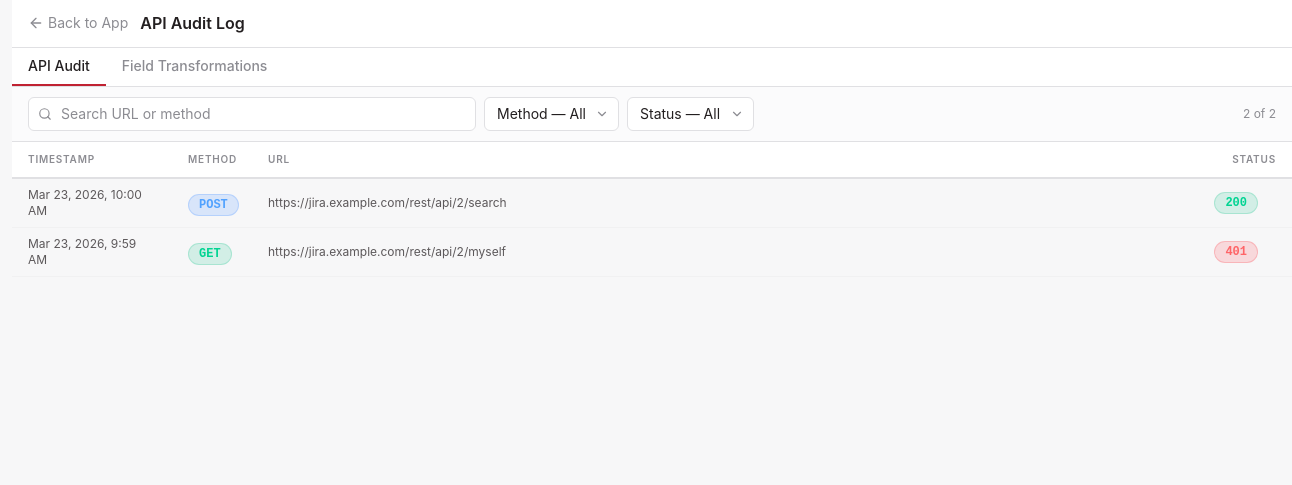
Scenario: AuditLogPage › Test 7: null response body shows "Response body not recorded" message
Expected: the text "https://jira.example.com/rest/api/2/myself" is shown, left=252, top=228, right=1196, bottom=276
Click the button that starts with "Mar 23, 2026, 9:59 AM" at (82, 244), box left=12, top=228, right=1291, bottom=276
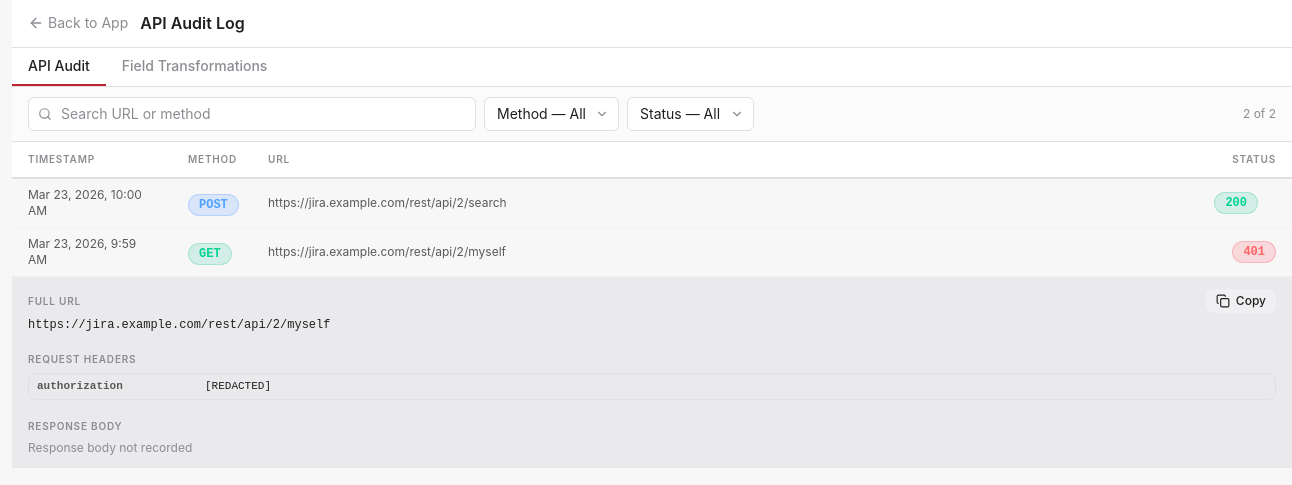
Expected: the text "Response body not recorded" is shown, left=28, top=440, right=192, bottom=454
